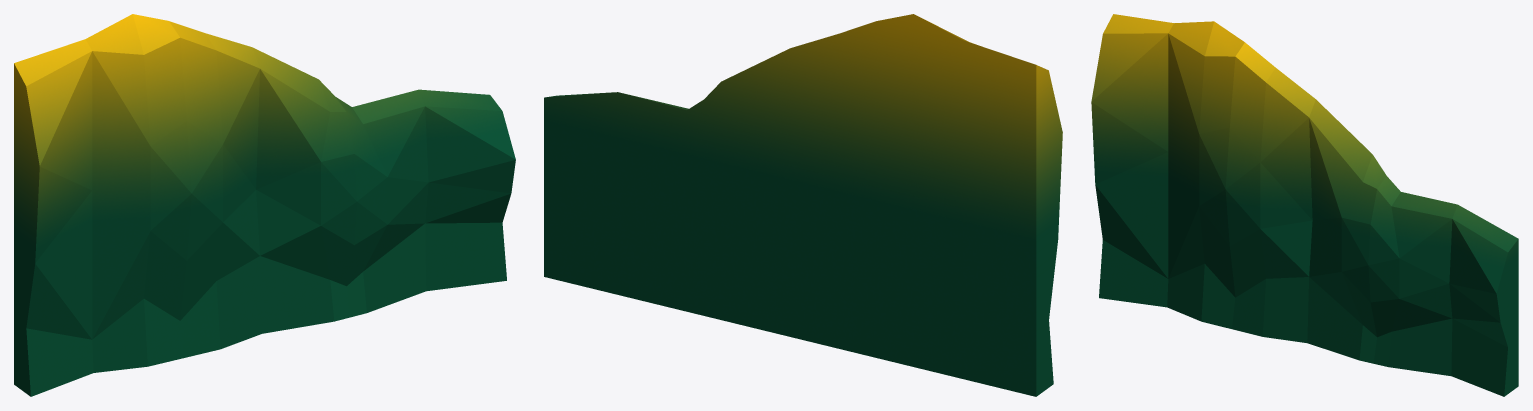
Rendered from Mod_Wall_ConnectLOW_L.fbx.
3 renders of one model, left to right at view 1: azimuth 30°, elevation 25°; view 2: azimuth 150°, elevation 25°; view 3: azimuth 330°, elevation 25°, orthographic. The views are drawn at different scales.
Parts seen in each view (by area): view 1: Mod_ConnectLOWL; view 2: Mod_ConnectLOWL; view 3: Mod_ConnectLOWL.
Part boxes in pixels (left/top/right/bottom): Mod_ConnectLOWL: left=14, top=14, right=515, bottom=396; Mod_ConnectLOWL: left=544, top=14, right=1062, bottom=396; Mod_ConnectLOWL: left=1091, top=14, right=1518, bottom=396.
Bounding box in the file's own units: 16.23 × 11.13 × 1.52.
1 material, 1 textured.
